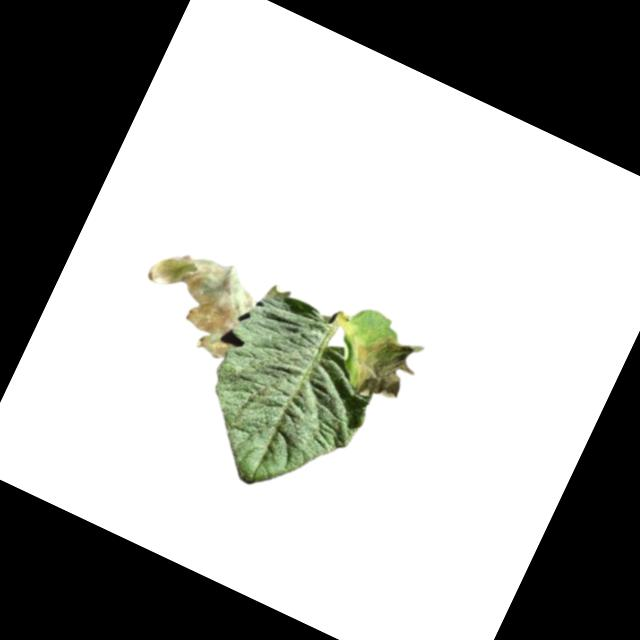Late_blight: (127, 232, 267, 363), (339, 321, 425, 410)
